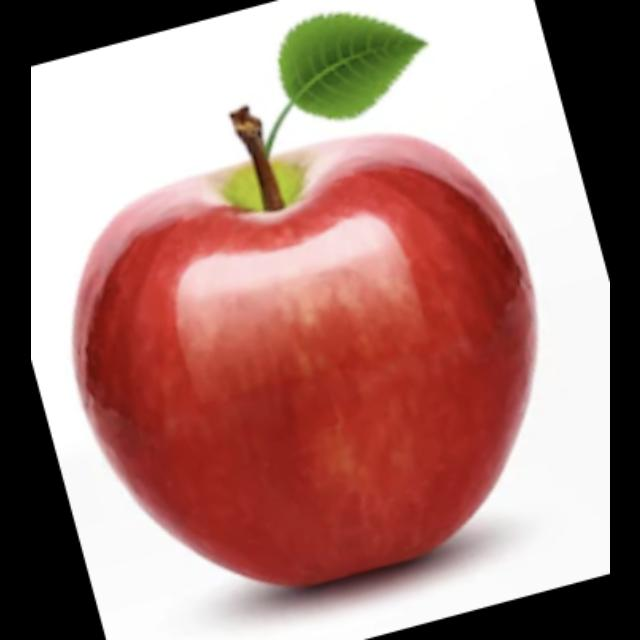Apel Segar: (60, 122, 546, 598)
